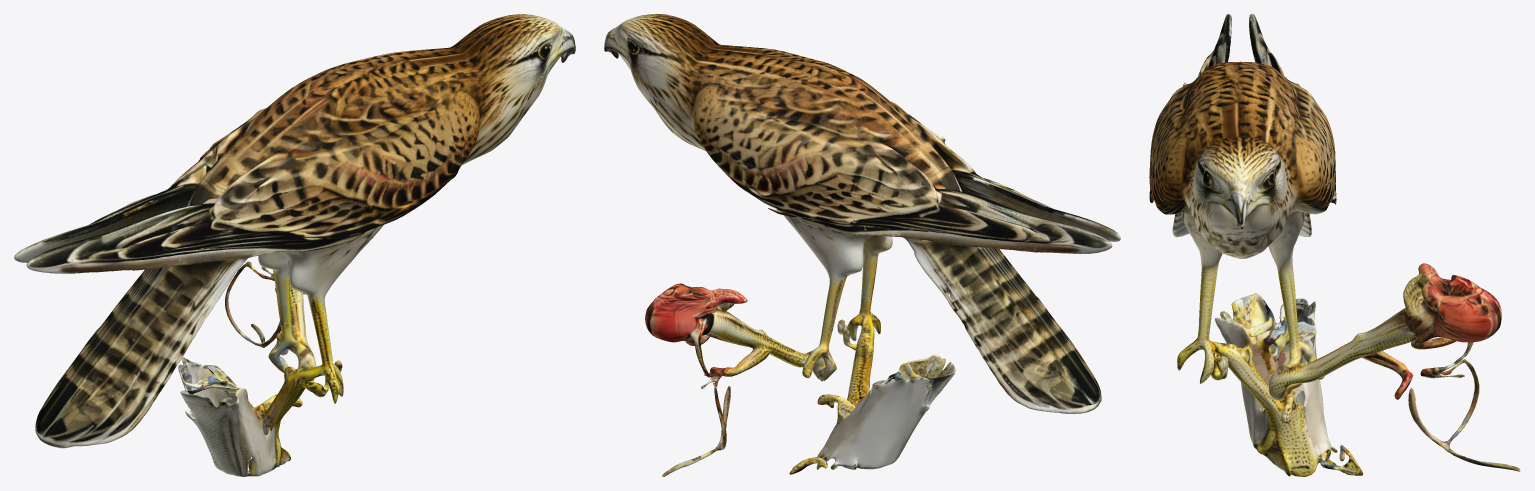
File: falcon generated.glb
3 renders of one model, left to right at view 1: azimuth 30°, elevation 25°; view 2: azimuth 150°, elevation 25°; view 3: azimuth 270°, elevation 25°, orthographic. The views are drawn at different scales.
Visible parts, largest first — view 1: geometry_0; view 2: geometry_0; view 3: geometry_0.
Part boxes in pixels (x1,y1,x2,y2): geometry_0: [14, 14, 575, 476]; geometry_0: [604, 14, 1120, 476]; geometry_0: [1149, 14, 1520, 476].
Size of the model in its own units: 1.91 by 1.34 by 1.03.
Materials: 1 (1 with a texture image).
